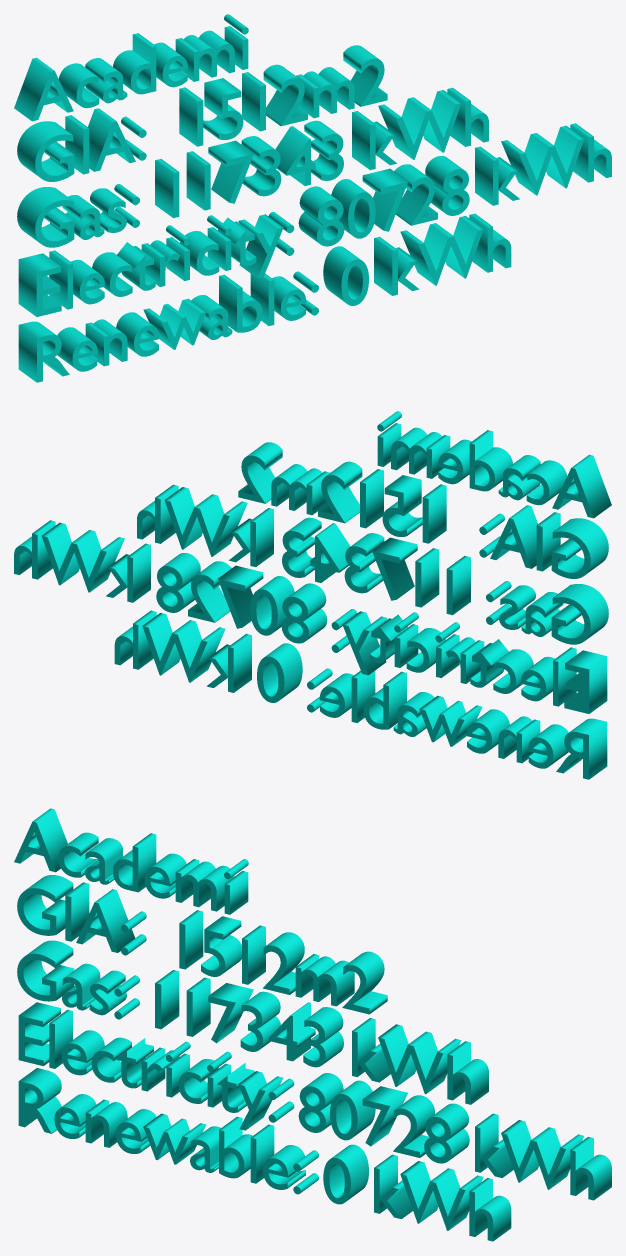
File: Academi.gltf
The picture shows the model from 3 angles, top to bottom: view 1: azimuth 30°, elevation 25°; view 2: azimuth 150°, elevation 25°; view 3: azimuth 330°, elevation 25°; orthographic projection.
Parts seen in each view (by area): view 1: Text; view 2: Text; view 3: Text.
Boxes of the visible parts, bbox=[...] form: Text: bbox=[14, 14, 611, 382]; Text: bbox=[14, 411, 611, 779]; Text: bbox=[14, 808, 611, 1241].
Bounding box in the file's own units: 9.25 × 4.69 × 0.5.
